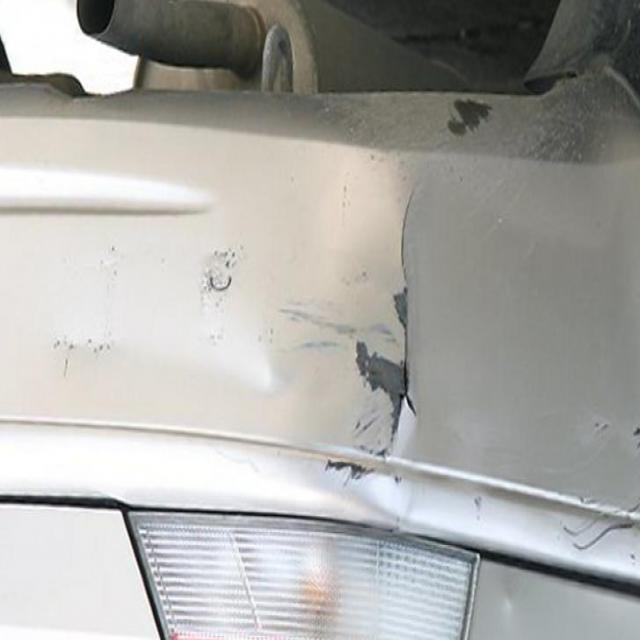scratch: (306, 175, 451, 498), (430, 88, 500, 157)
